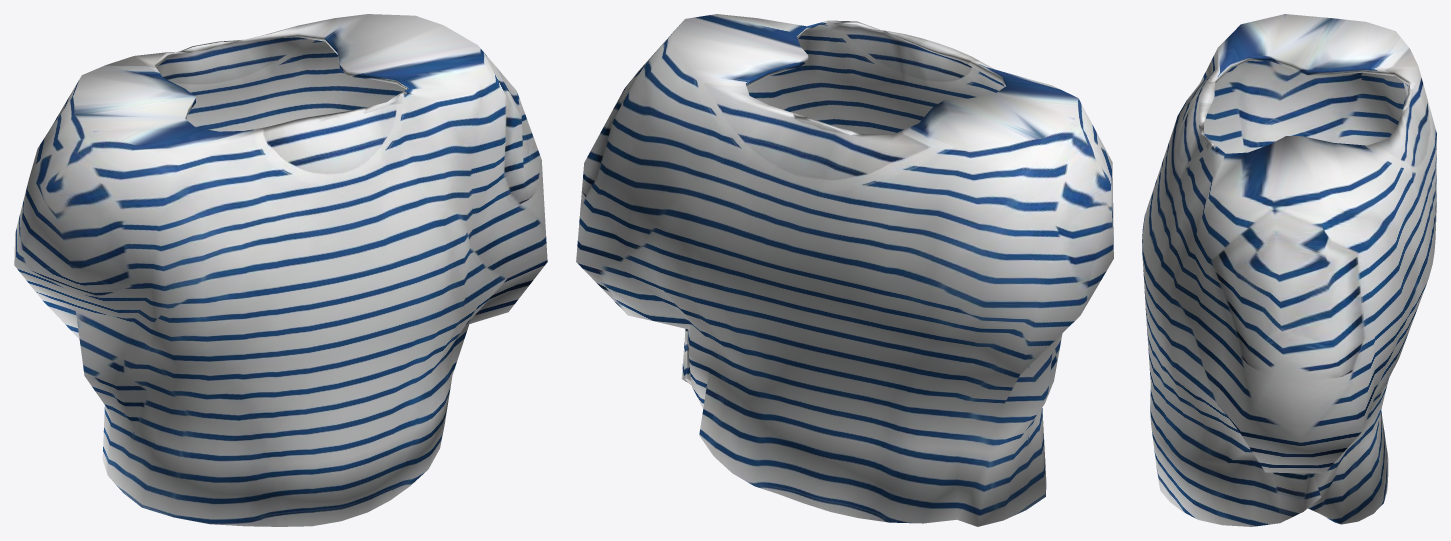
3 views of the same model, side by side, from view 1: azimuth 30°, elevation 25°; view 2: azimuth 150°, elevation 25°; view 3: azimuth 270°, elevation 25° (orthographic). The views are drawn at different scales.
Visible parts, largest first — view 1: garment; view 2: garment; view 3: garment.
Boxes of the visible parts, x1,y1,x2,y2 form: garment: [14, 14, 547, 526]; garment: [576, 14, 1113, 526]; garment: [1142, 14, 1436, 526].
Bounding box in the file's own units: 0.5807 × 0.4434 × 0.3077.
1 material, 1 textured.
